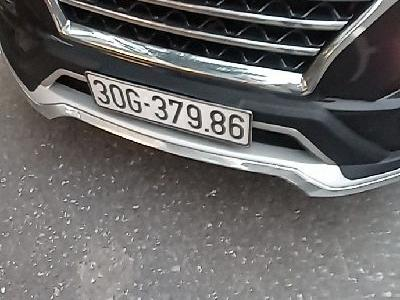lisence: (84, 70, 253, 150)
